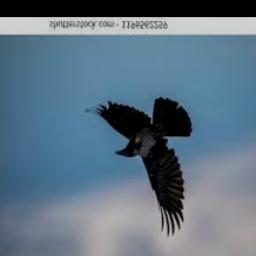Crow: (85, 98, 191, 237)
